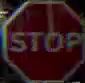Stop: (3, 1, 84, 82)
